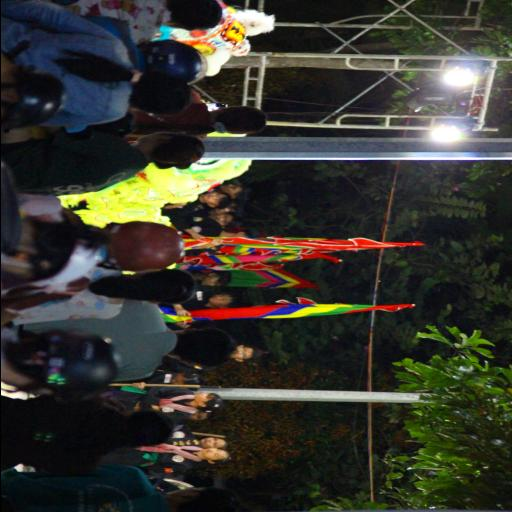lua: (252, 234, 286, 252)
